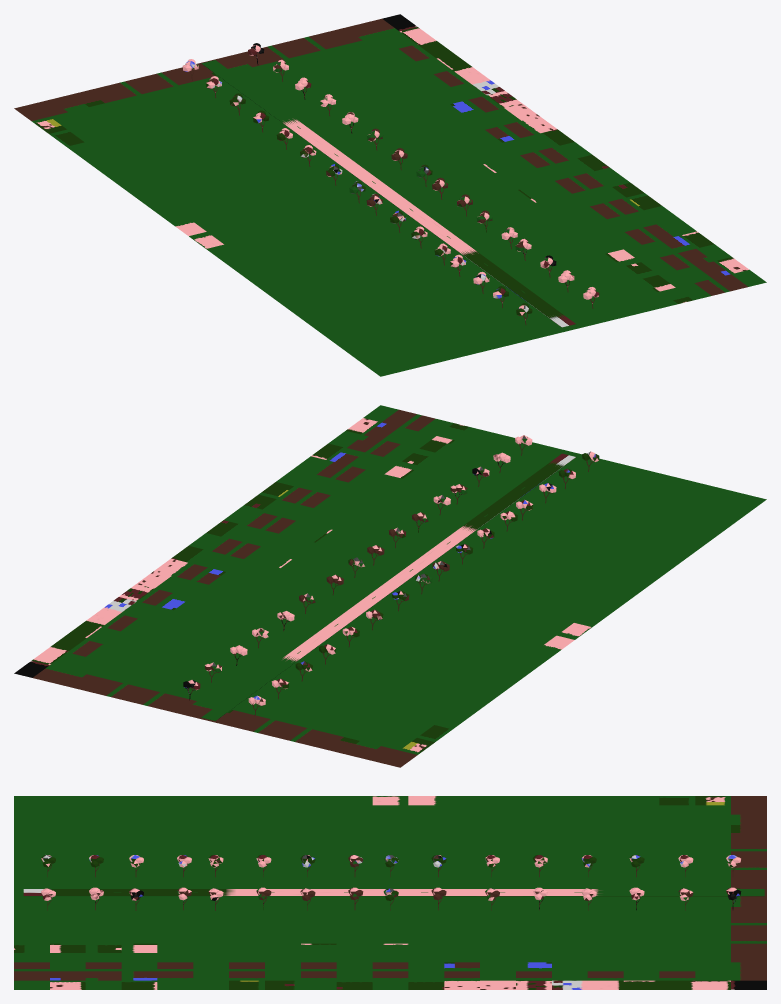
The model's file is Scene_Planebackup.gltf.
3 views of the same model, one above another, from view 1: azimuth 30°, elevation 25°; view 2: azimuth 150°, elevation 25°; view 3: azimuth 270°, elevation 25° (orthographic). The views are drawn at different scales.
Visible parts, largest first — view 1: Ground; view 2: Ground; view 3: Ground.
Boxes of the visible parts, left/top/right/bottom form: Ground: left=14, top=14, right=766, bottom=376; Ground: left=14, top=405, right=766, bottom=767; Ground: left=14, top=796, right=766, bottom=989.
Size of the model in its own units: 122 by 6.29 by 200.
Materials: 1 (1 with a texture image).
